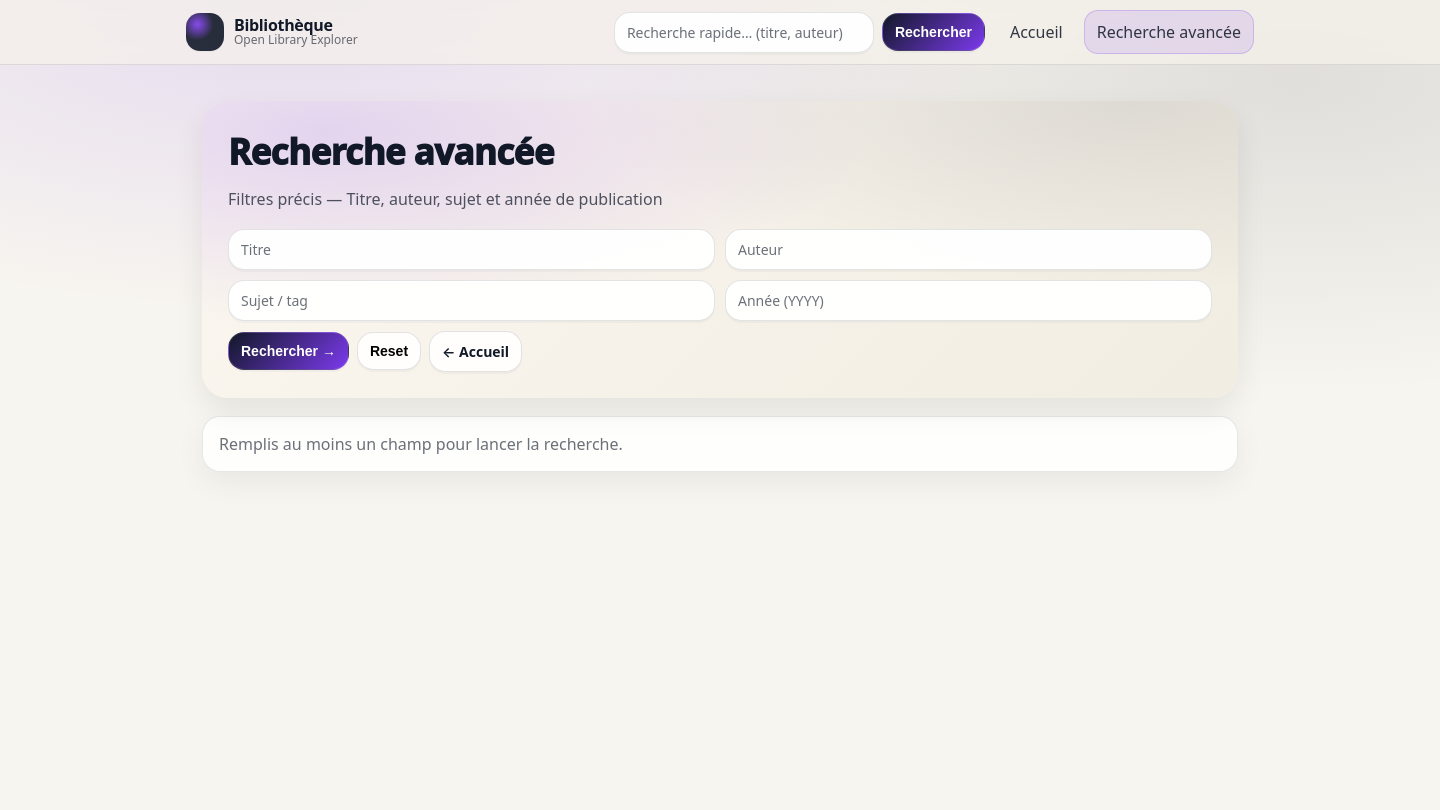
AdvancedSearchPage › searches and shows results
The image size is (1440, 810).
Type "harry" into the field with placeholder "Titre". click: [472, 249]
box: [228,229,715,270]
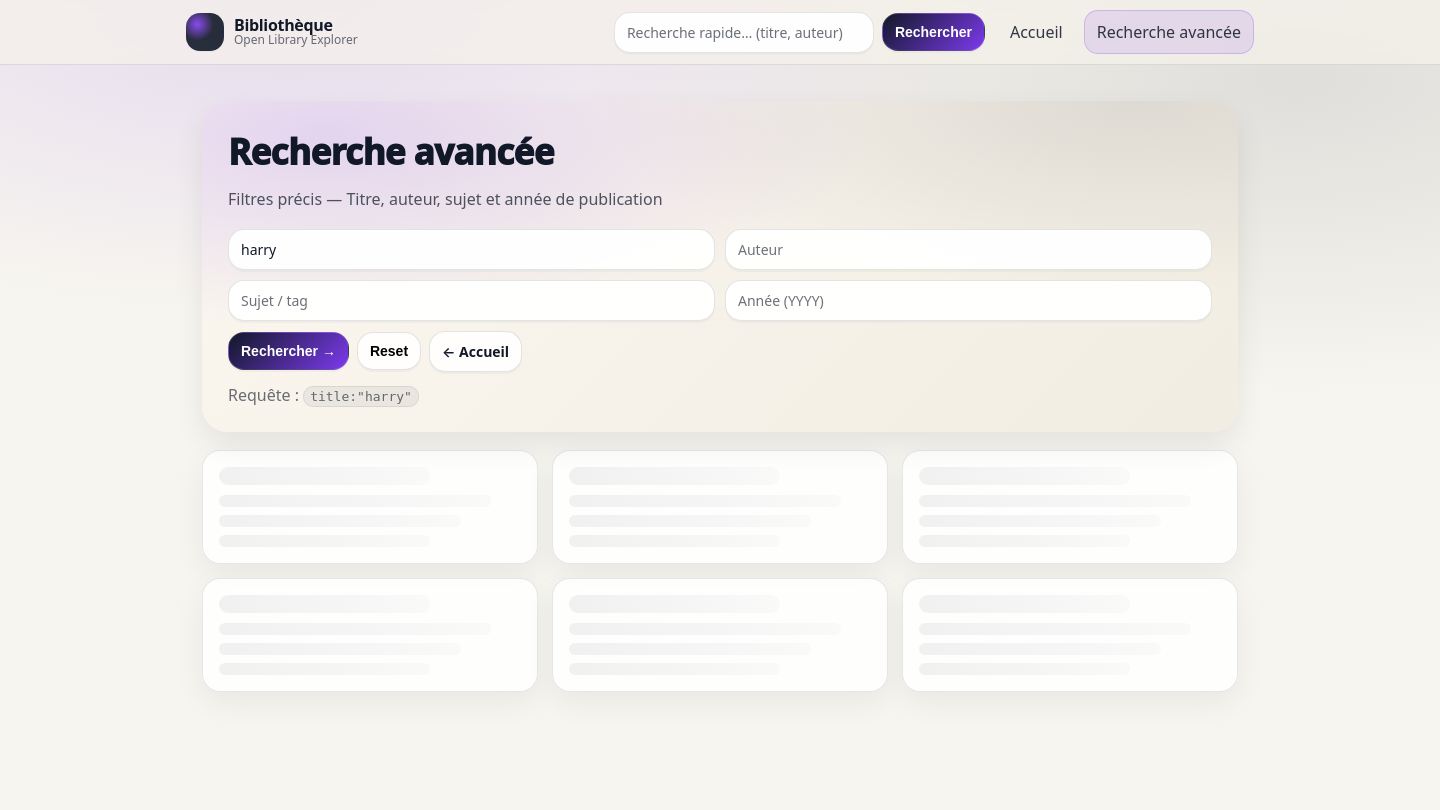
Click the button "Rechercher →". click: [288, 351]
box: [228,332,349,370]
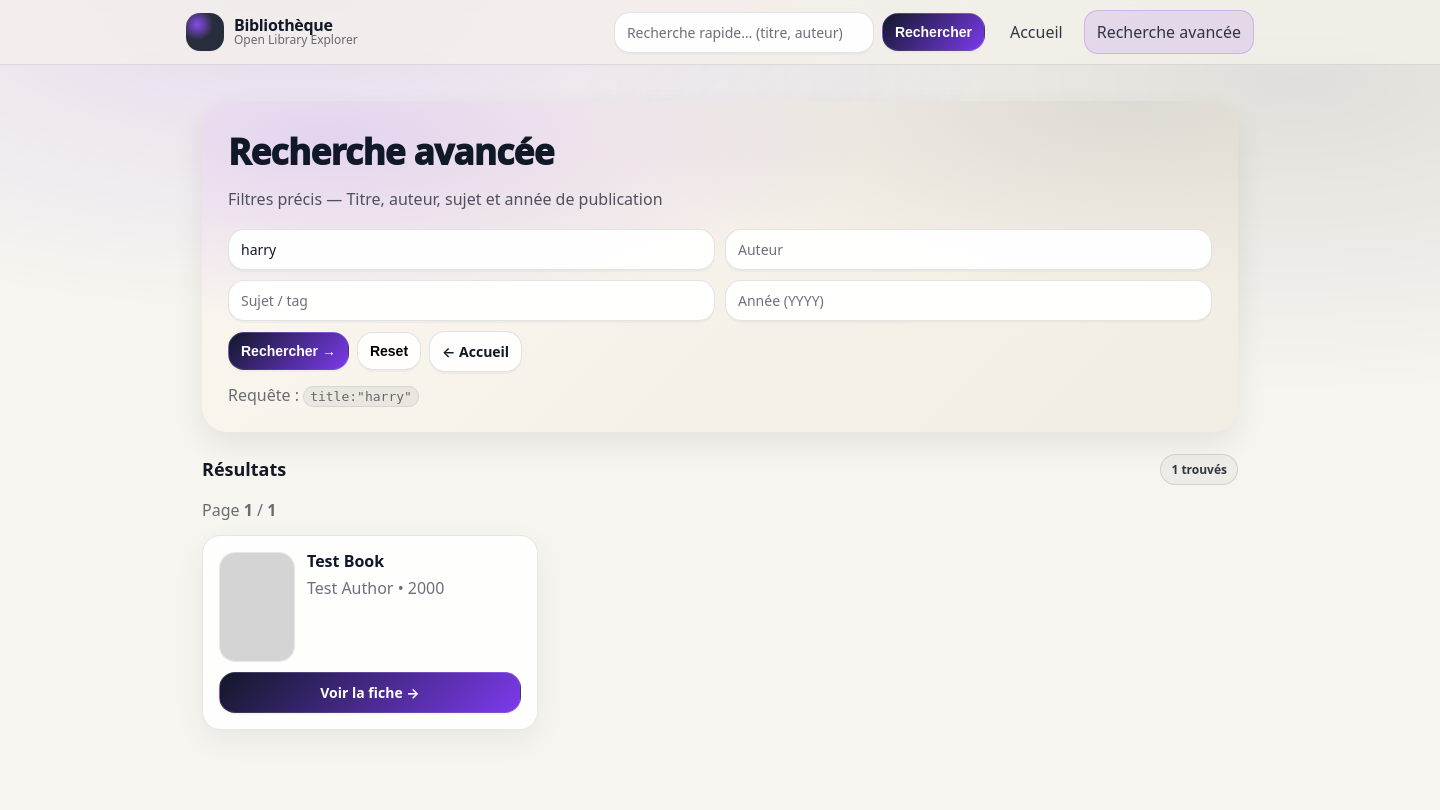
expect the text "Test Book" is shown: met, box [307,550,384,572]
expect the text "Test Author • 2000" is shown: met, box [307,577,444,599]
